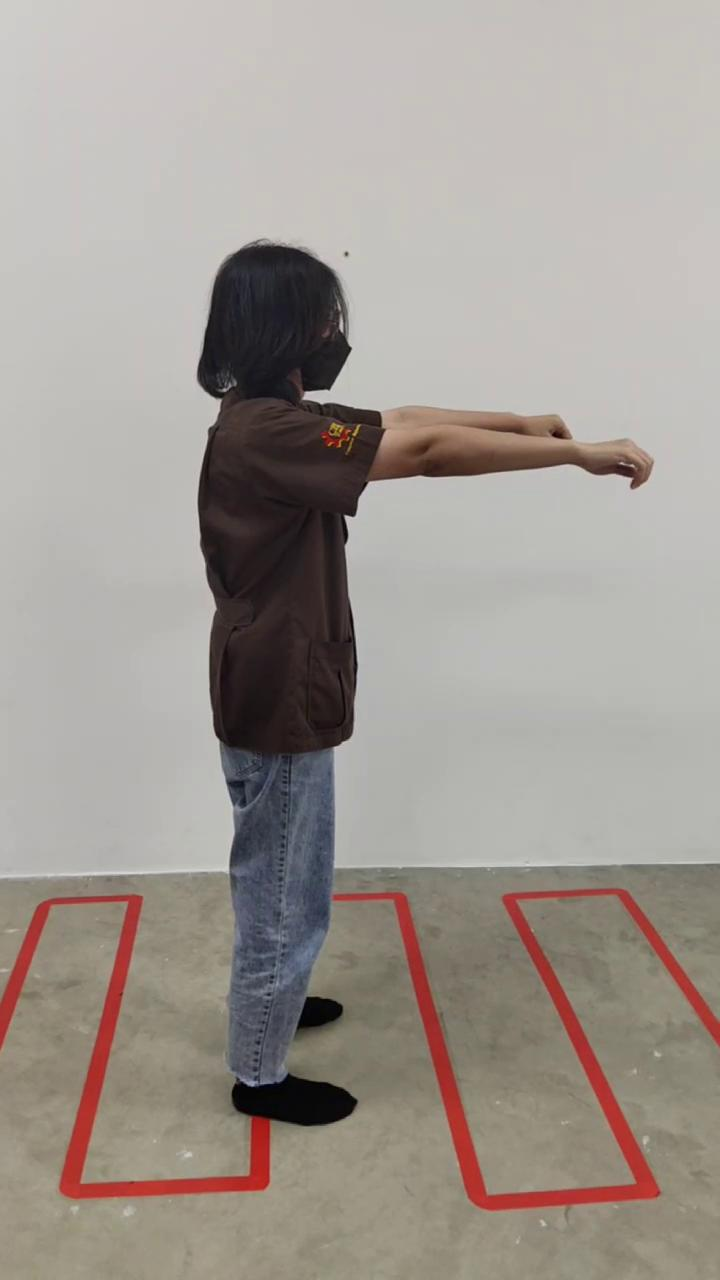squat up: (198, 240, 652, 1128)
